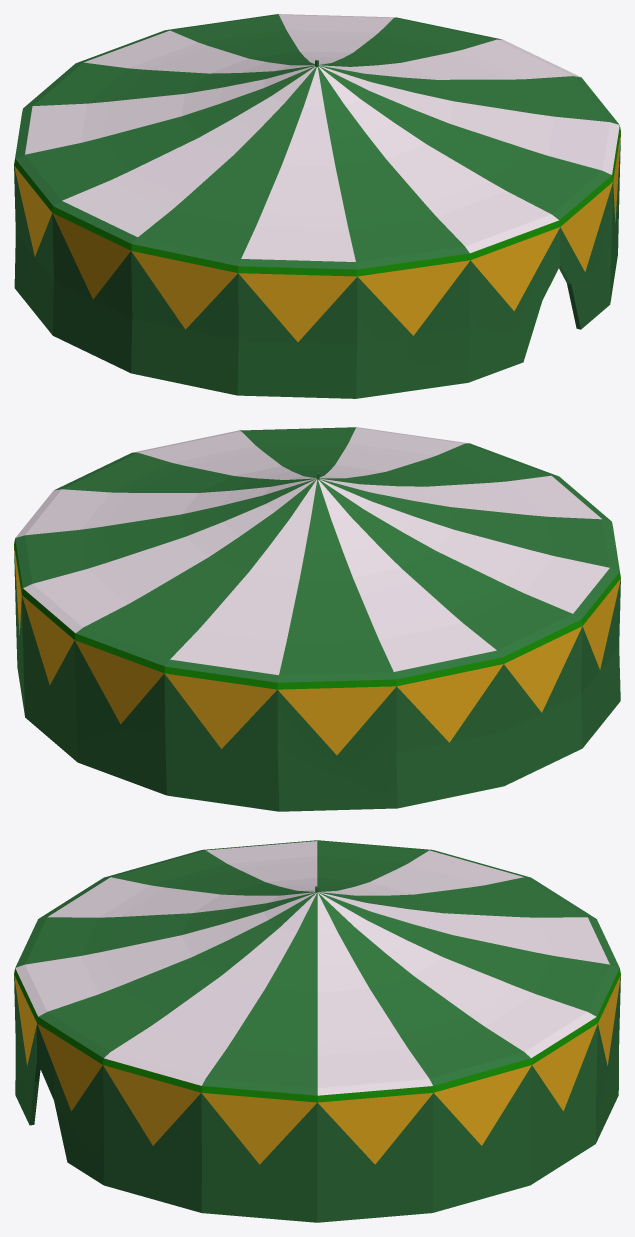
File: tent_3.fbx
3 renders of one model, top to bottom at view 1: azimuth 30°, elevation 25°; view 2: azimuth 150°, elevation 25°; view 3: azimuth 270°, elevation 25°, orthographic.
Visible parts, largest first — view 1: Plane; view 2: Plane; view 3: Plane.
Boxes of the visible parts, x1,y1,x2,y2 form: Plane: (14, 14, 620, 398); Plane: (14, 427, 620, 811); Plane: (14, 840, 620, 1222).
Bounding box in the file's own units: 1606 × 611 × 1606.
